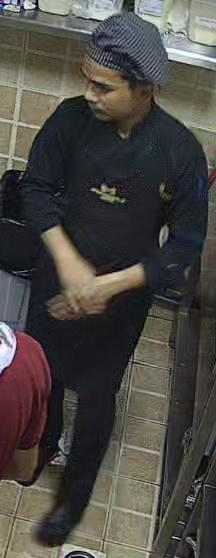no_apron: (22, 57, 190, 340)
